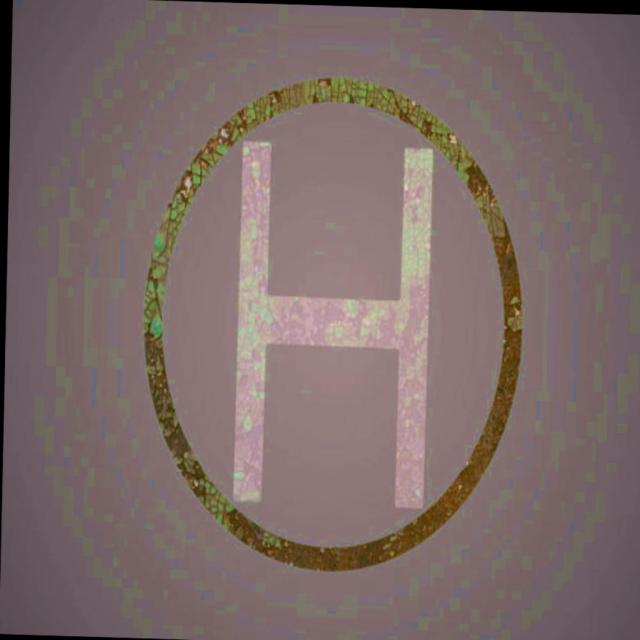helipad: (132, 65, 534, 582)
